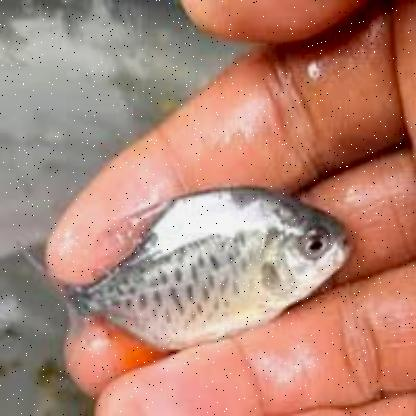ikan-pacu: (84, 183, 352, 353)
